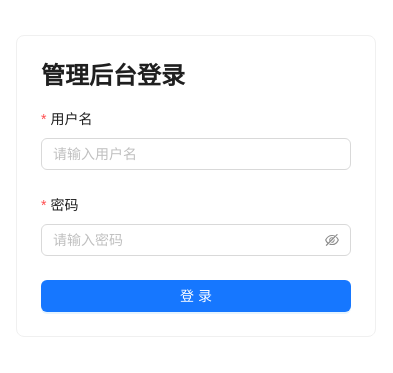
LoginPage › logs in and stores token
Type "admin" into the field with placeholder "请输入用户名" at x=196, y=154, box [41,138,351,170]
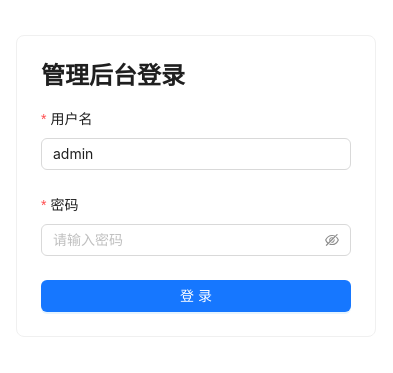
Type "pw" into the password field with placeholder "请输入密码" at x=187, y=240, box [53,229,321,251]
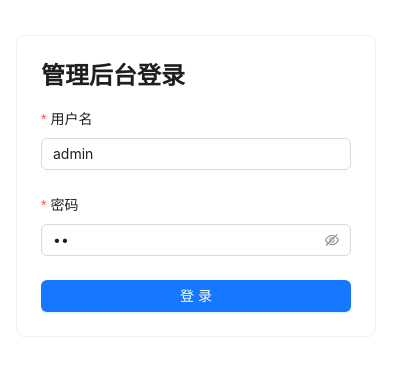
Click the button "登 录" at x=196, y=296, box [41,280,351,312]
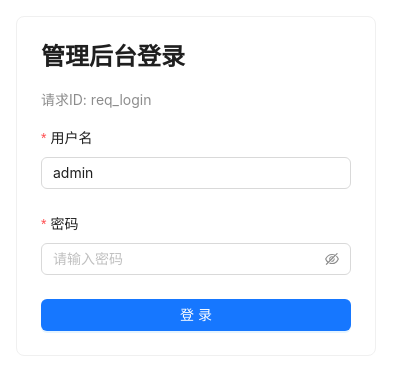
Result: the text "请求ID: req_login" is shown at [41,91,152,108]
